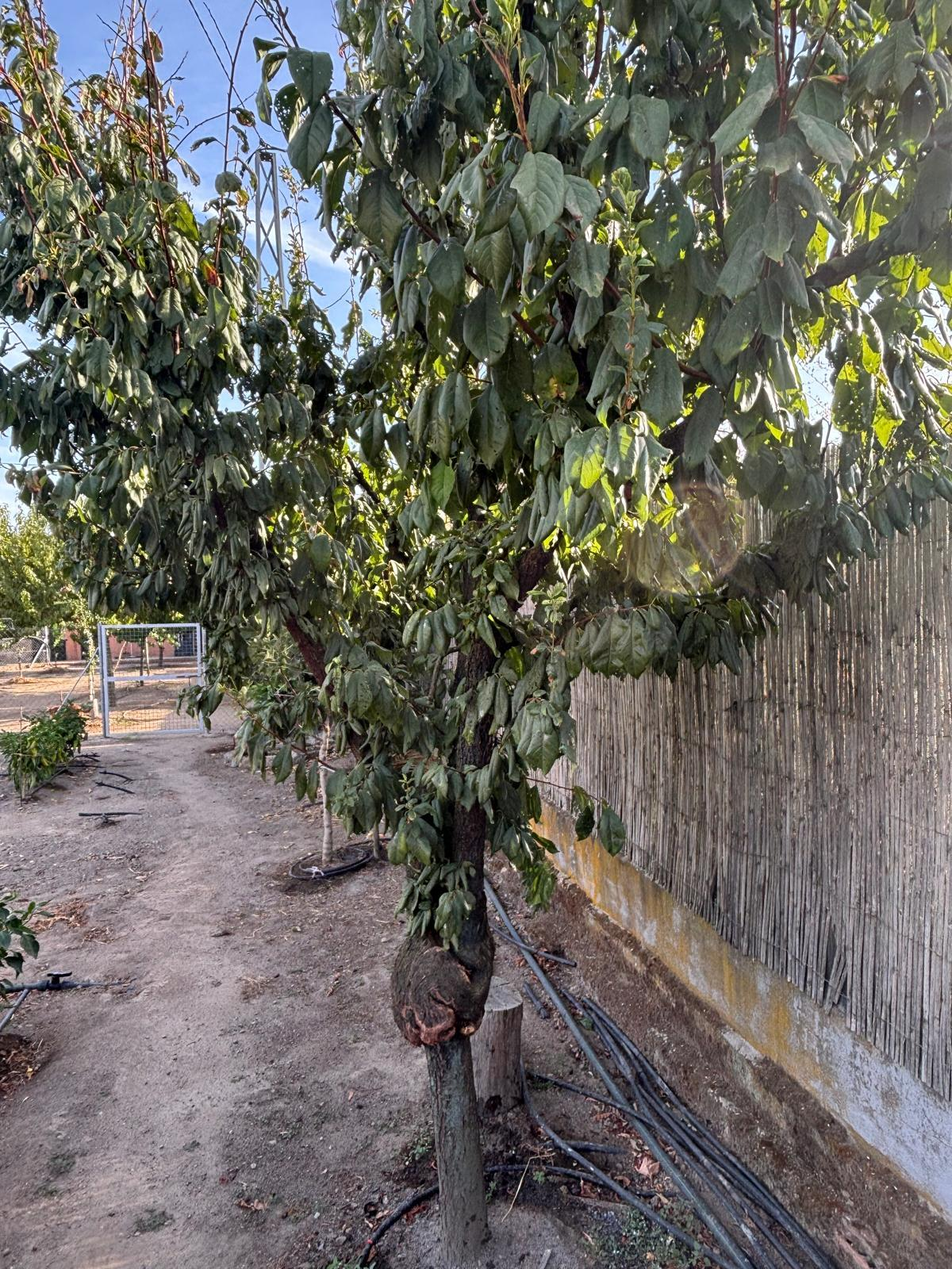ciruelo: (63, 112, 829, 1189)
